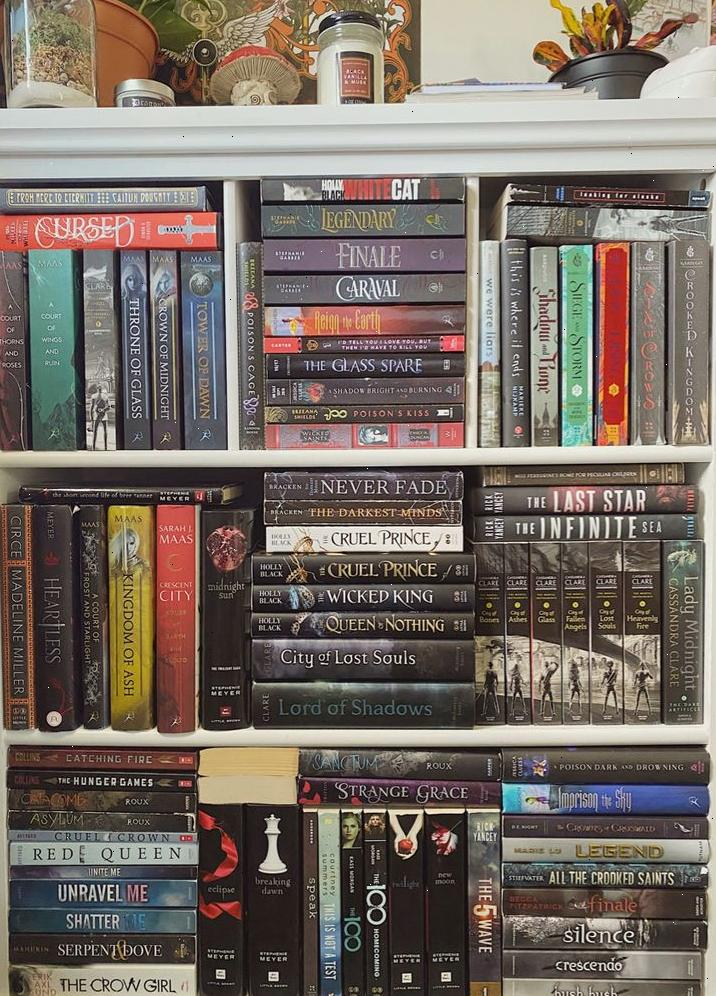book: (200, 507, 256, 734), (243, 803, 302, 996), (252, 681, 478, 731), (106, 508, 153, 734), (28, 247, 80, 450), (33, 501, 78, 732), (154, 506, 198, 736), (249, 640, 477, 684), (195, 800, 245, 996), (180, 250, 227, 451), (472, 540, 691, 583), (0, 210, 216, 249), (671, 235, 710, 448), (424, 806, 467, 996), (661, 542, 704, 727), (504, 201, 707, 239), (81, 250, 120, 447), (505, 913, 706, 950), (0, 501, 32, 733), (629, 238, 665, 444), (292, 747, 496, 783), (502, 746, 711, 781), (255, 204, 464, 238), (247, 609, 476, 640), (260, 272, 466, 306), (78, 505, 109, 730), (594, 242, 628, 446), (504, 782, 706, 816), (465, 811, 502, 996), (259, 240, 466, 273), (507, 949, 707, 983), (119, 249, 153, 446), (475, 485, 691, 516), (250, 550, 473, 580), (502, 886, 711, 918), (262, 304, 464, 337), (293, 776, 495, 809), (622, 542, 660, 717), (247, 584, 473, 613), (388, 809, 423, 996), (473, 513, 691, 543), (147, 249, 180, 447), (264, 469, 467, 501), (560, 244, 592, 445), (528, 246, 559, 449), (0, 251, 29, 459), (498, 813, 704, 842), (501, 861, 703, 890), (587, 551, 622, 717), (12, 965, 196, 996), (10, 935, 199, 965), (264, 378, 465, 406), (266, 424, 466, 452), (557, 546, 590, 715), (261, 177, 467, 204), (502, 838, 707, 865), (11, 879, 201, 908), (501, 241, 528, 444), (0, 185, 210, 211), (264, 500, 469, 526), (19, 485, 240, 509), (9, 744, 198, 772), (263, 526, 466, 552), (361, 811, 389, 996), (239, 244, 264, 451), (6, 789, 196, 816), (315, 809, 342, 996), (12, 840, 197, 867), (531, 555, 562, 714), (11, 908, 198, 934), (506, 184, 707, 208), (481, 463, 677, 487), (9, 810, 197, 835), (6, 769, 192, 794), (339, 812, 364, 996), (478, 244, 500, 446), (502, 559, 530, 713), (261, 404, 462, 425), (266, 334, 463, 355), (6, 863, 198, 884), (10, 827, 197, 846), (512, 981, 704, 996)
